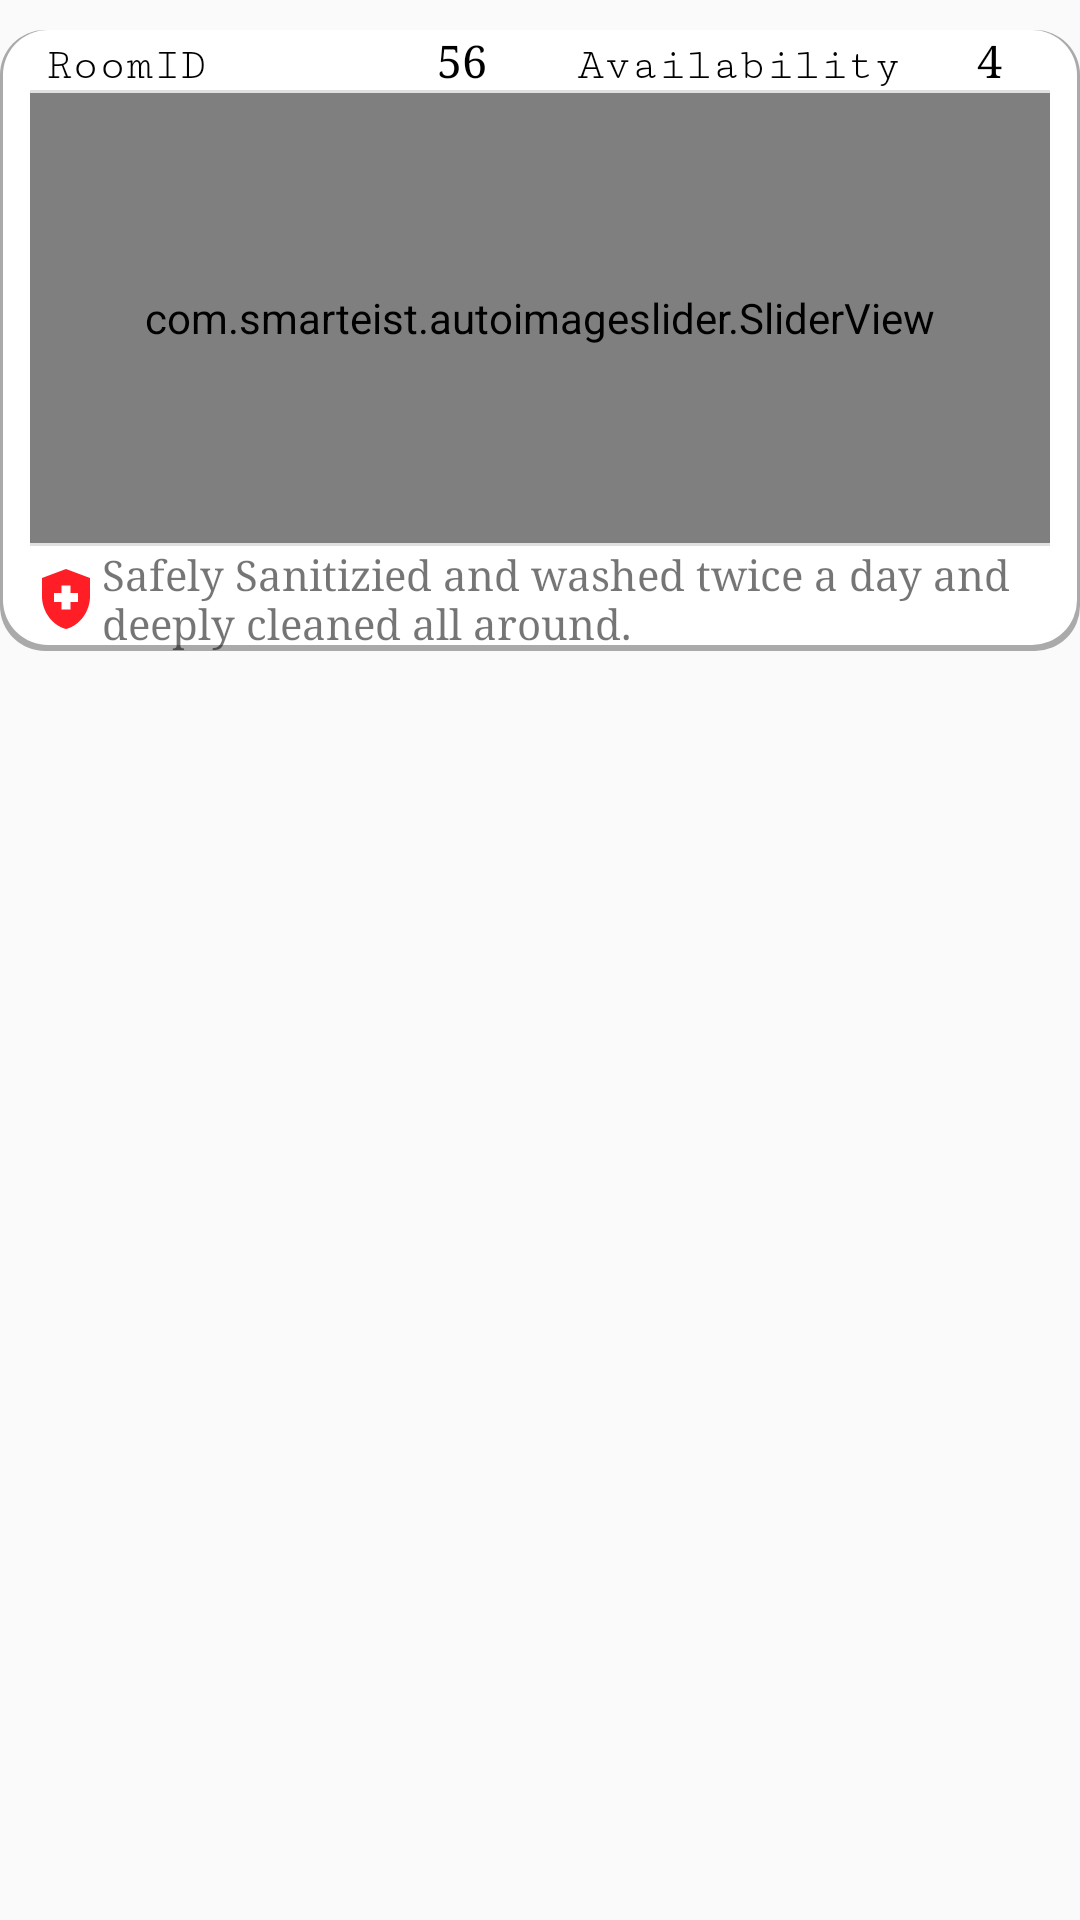

Where to tap for icons on this 1080x1920 app screen, as (x=x, y=y):
health and safety: (x=66, y=599)
